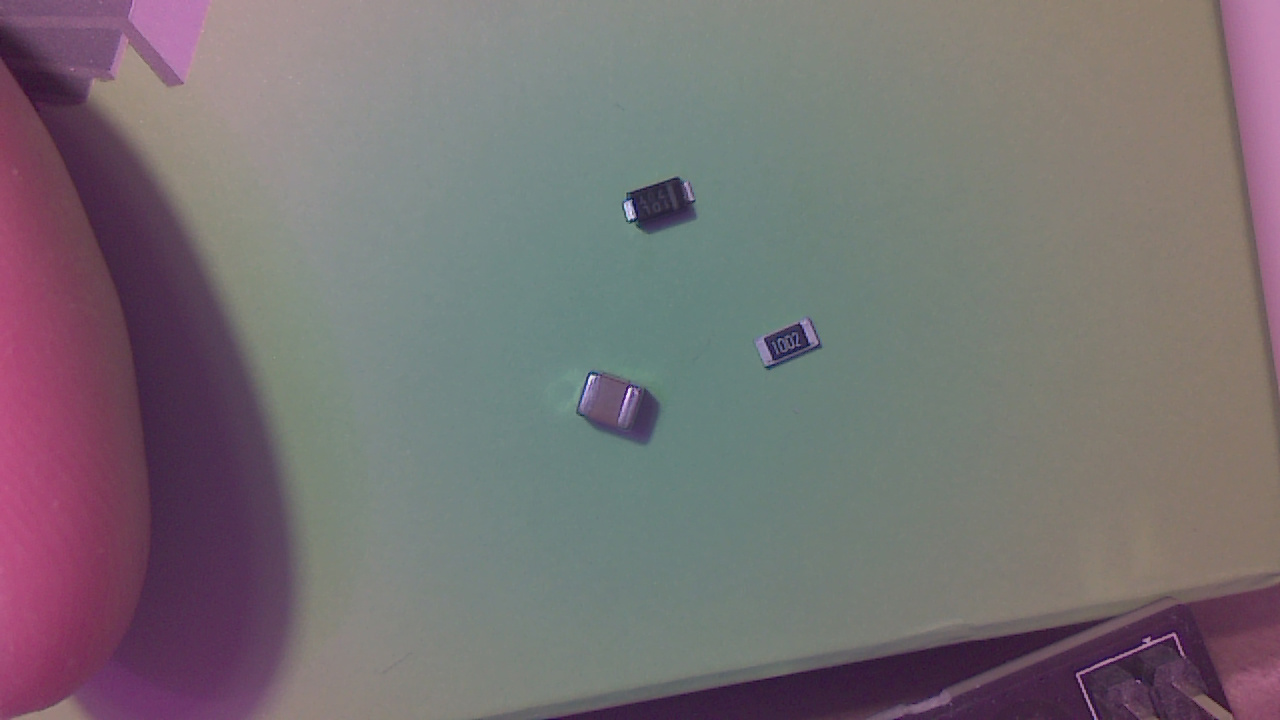Condensator: (579, 377, 647, 435)
Diode: (630, 175, 703, 235)
Resistor: (756, 316, 822, 377)
